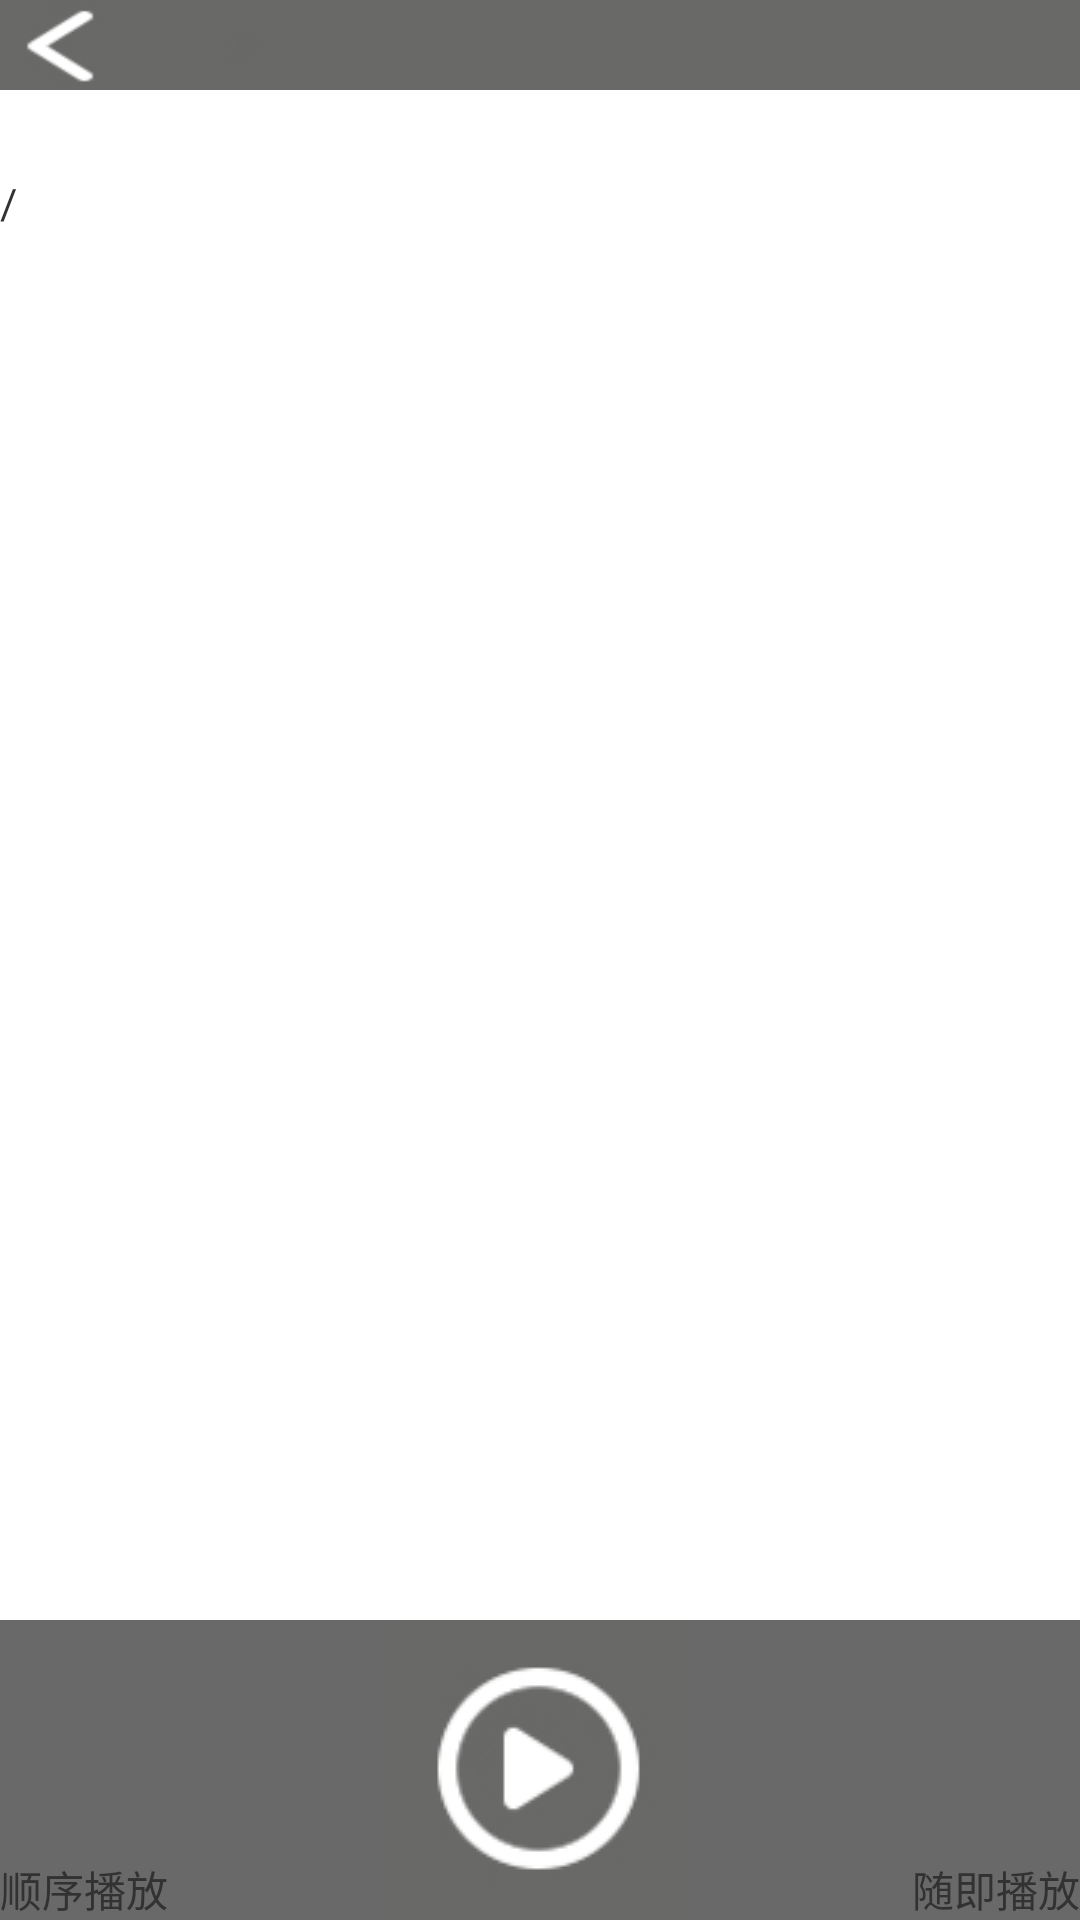

Icons on this 1080w x 1920h Android screen, each with the point to tap as [x,y]:
play: [538,1768]
